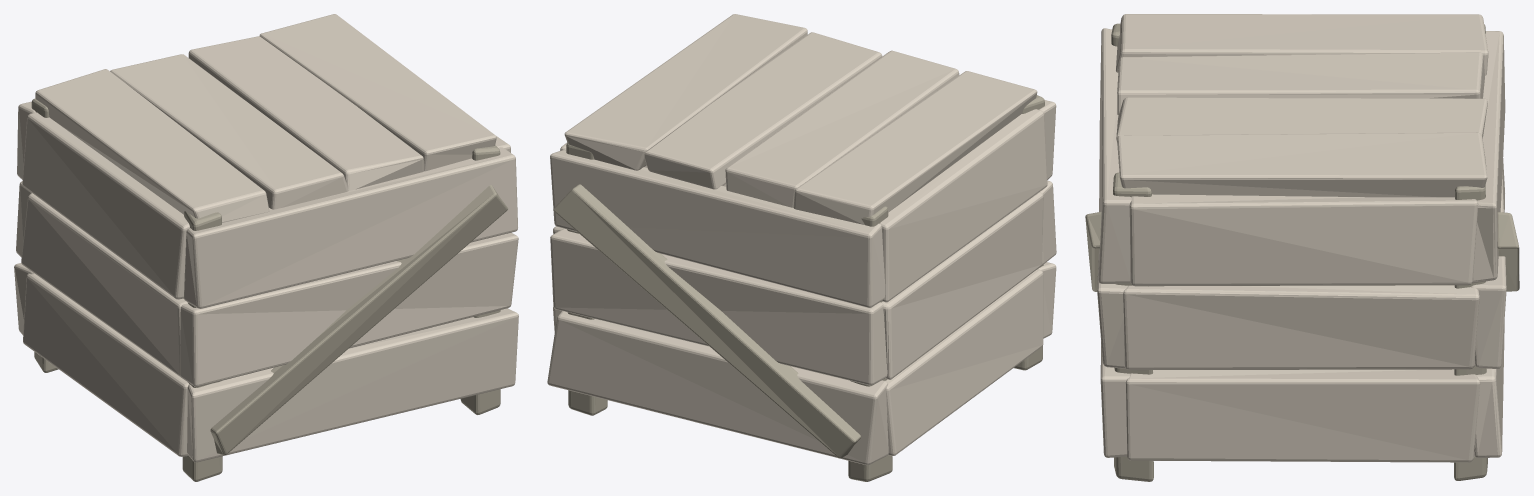
Rendered from SM_WLA_Crate_B.fbx.
3 views of the same model, side by side, from view 1: azimuth 30°, elevation 25°; view 2: azimuth 150°, elevation 25°; view 3: azimuth 270°, elevation 25° (orthographic). The views are drawn at different scales.
Parts seen in each view (by area): view 1: SM_WLA_Crate_B; view 2: SM_WLA_Crate_B; view 3: SM_WLA_Crate_B.
Part boxes in pixels (box(x1,y1,x2,y2)): SM_WLA_Crate_B: box(14, 14, 518, 481); SM_WLA_Crate_B: box(547, 14, 1056, 481); SM_WLA_Crate_B: box(1085, 14, 1519, 481).
Size of what is drawn, in the model's own units: 0.8973 by 0.8963 by 0.7023.
